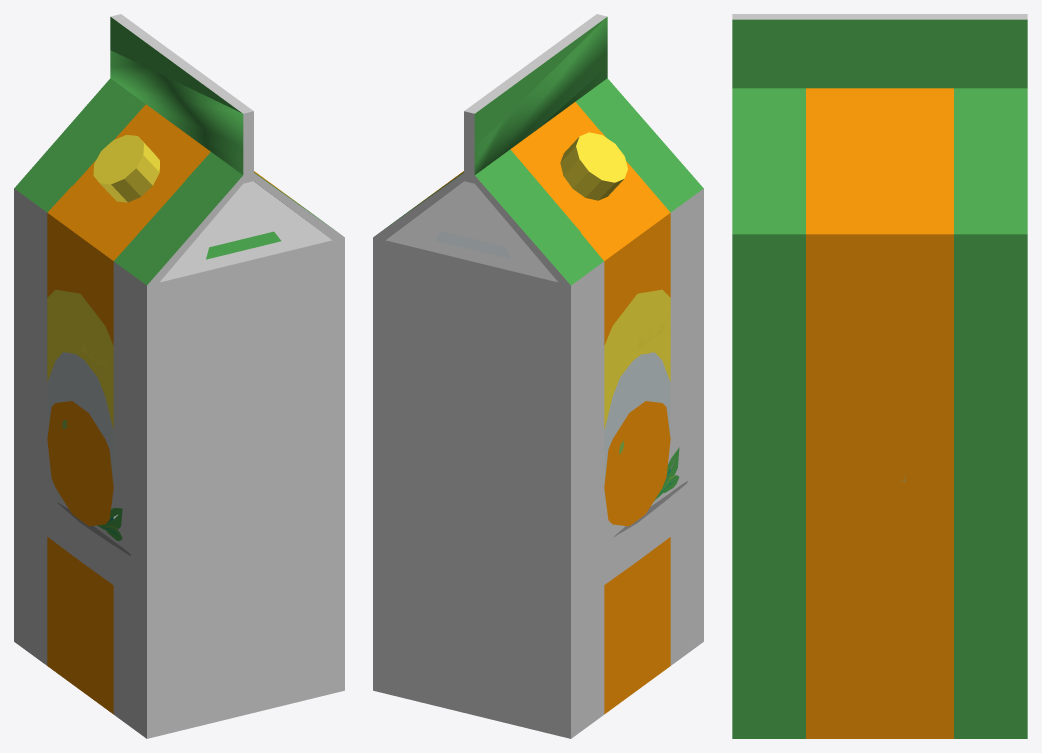
The model's file is JugoNaranja.obj.
The picture shows the model from 3 angles, left to right: view 1: azimuth 30°, elevation 25°; view 2: azimuth 150°, elevation 25°; view 3: azimuth 270°, elevation 25°; orthographic projection. The views are drawn at different scales.
Visible parts, largest first — view 1: group1878001378, group1150525488, group941981295; view 2: group1878001378, group1150525488, group941981295; view 3: group1878001378, group1150525488.
Part boxes in pixels (left/top/right/bottom): group1878001378: left=14, top=78, right=344, bottom=738; group1150525488: left=110, top=14, right=253, bottom=183; group941981295: left=93, top=135, right=159, bottom=202; group1878001378: left=373, top=78, right=703, bottom=738; group1150525488: left=464, top=14, right=607, bottom=183; group941981295: left=560, top=132, right=627, bottom=200; group1878001378: left=732, top=88, right=1027, bottom=738; group1150525488: left=732, top=14, right=1027, bottom=88.
Bounding box in the file's own units: 0.37 × 1.07 × 0.43.
